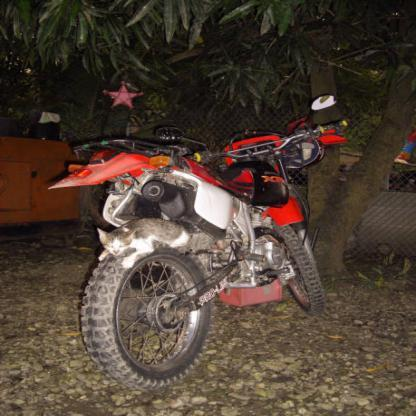Motorcycle: (42, 100, 356, 396)
